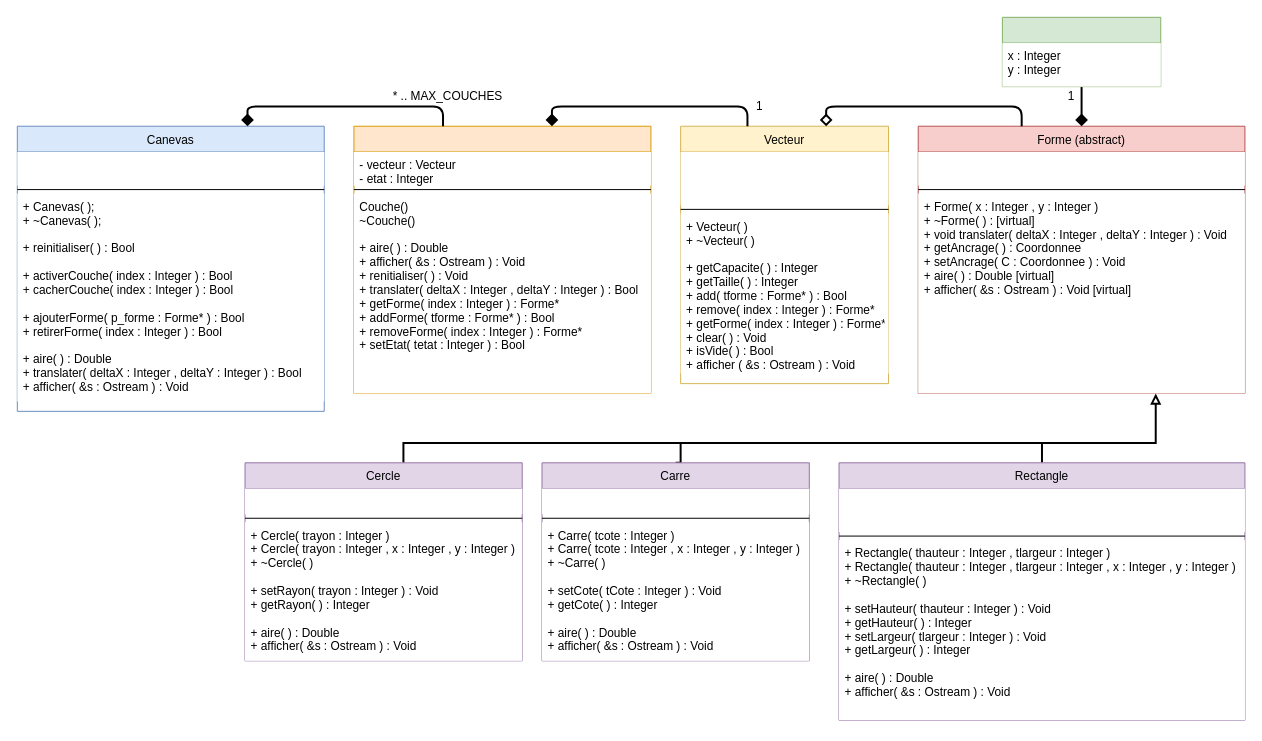
Image size: 1262x741. Some labels were removed from this diagram. The shapes that lost their labels are listed below. From the top down, each one's box as (x1, y1, x2, y2) in pixels, then its label:
(1001, 16, 1161, 87): Coordonnee
(17, 151, 324, 185): - couches[MAX_COUCHES] : Couches - couche_active : integer
(680, 151, 888, 205): - *pvecteur : Forme* - taille : Integer - capacite : Integer
(918, 151, 1244, 185): # ancrage : Coordonnee
(353, 125, 651, 394): Couches
(245, 488, 522, 514): - rayon : Integer
(542, 488, 809, 514): - cote : Integer
(839, 488, 1244, 532): - largeur : Integer - hauteur : Integer
